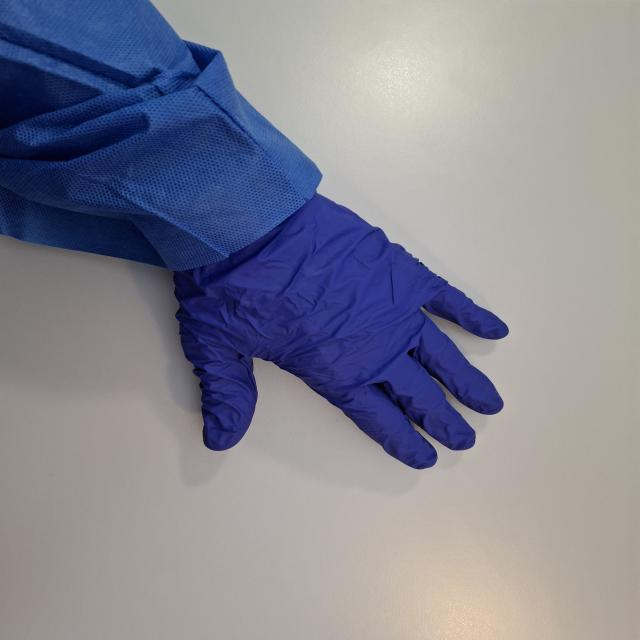glove_on: (165, 182, 516, 475)
